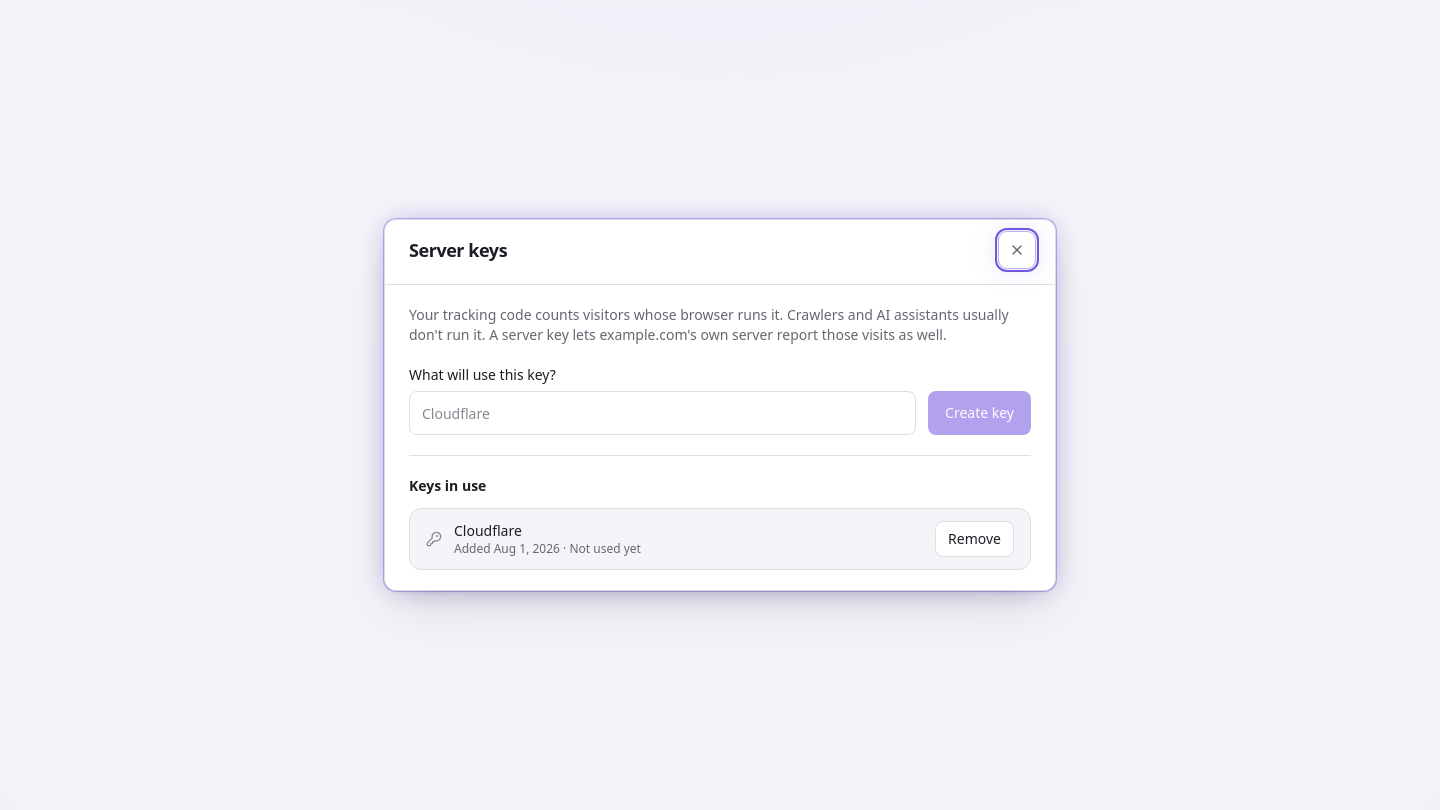
Test case: the keys a website’s own server reports with › asks before taking a key away
The image size is (1440, 810).
Click the button "Remove" at (975,539), box [935,521,1014,557]
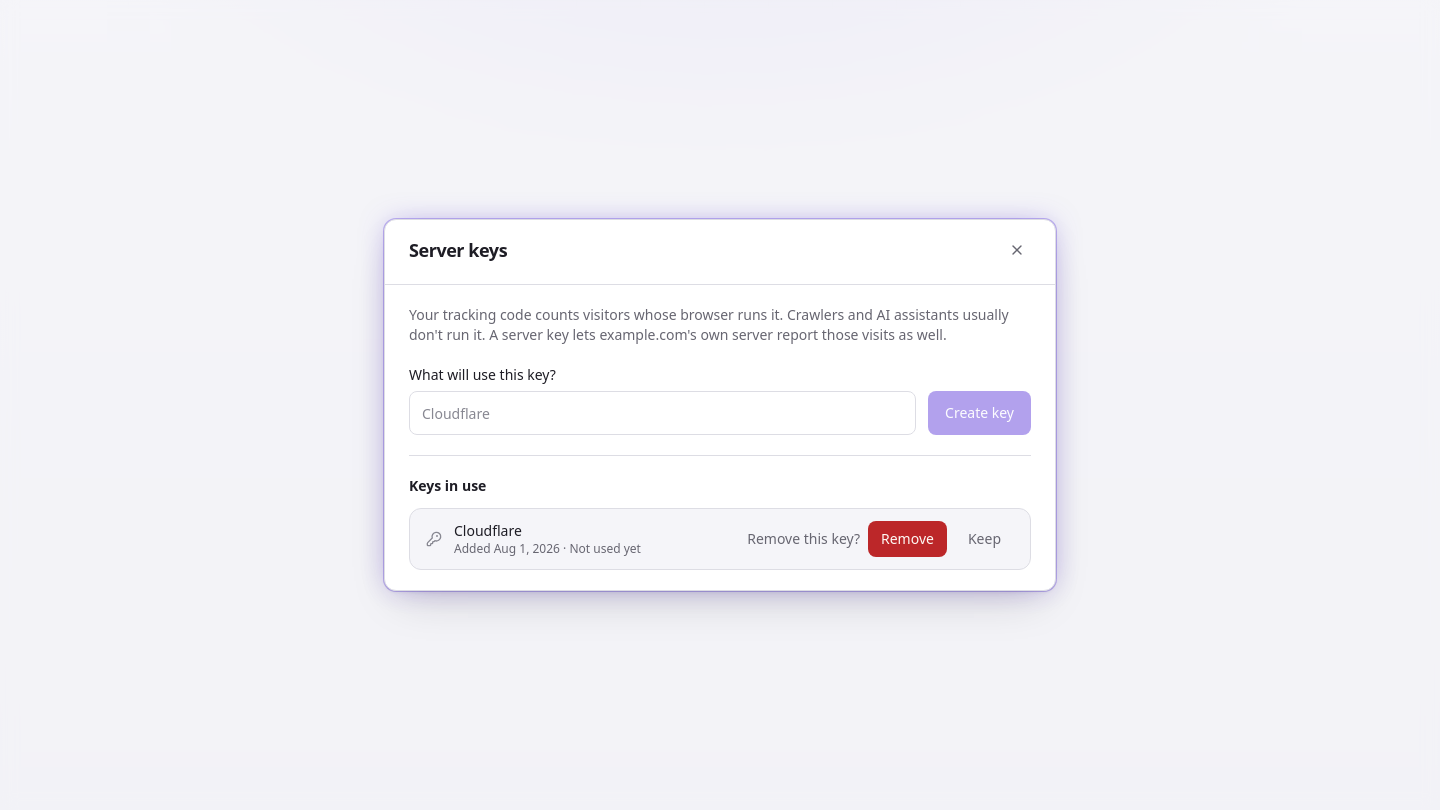
expect the text "Remove this key?" is shown: met, box [747,529,860,549]
